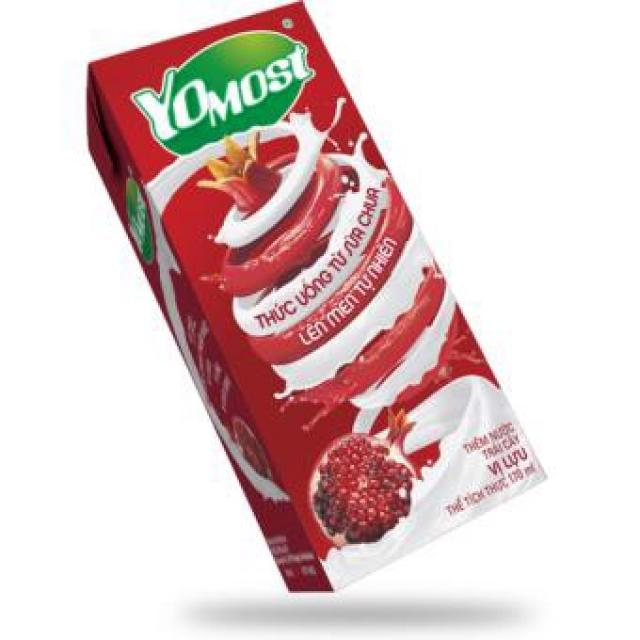non_white_jug: (45, 0, 550, 608)
